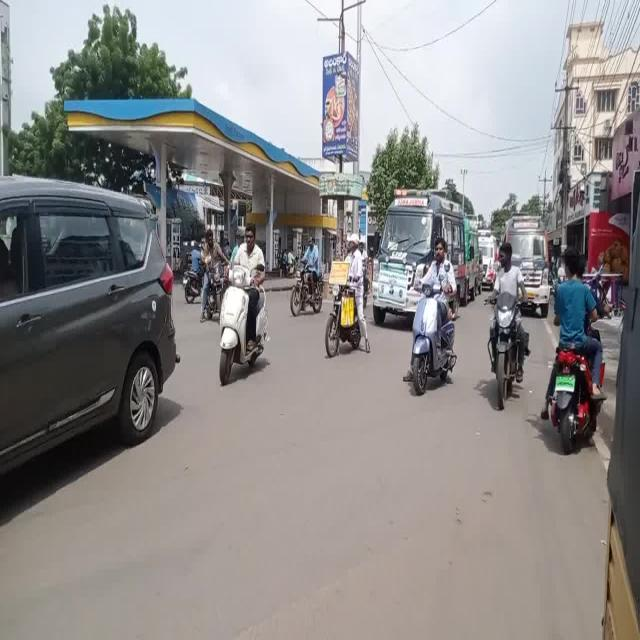ambulance: (373, 193, 469, 328), (503, 214, 548, 313), (464, 218, 479, 301), (481, 222, 496, 290)
